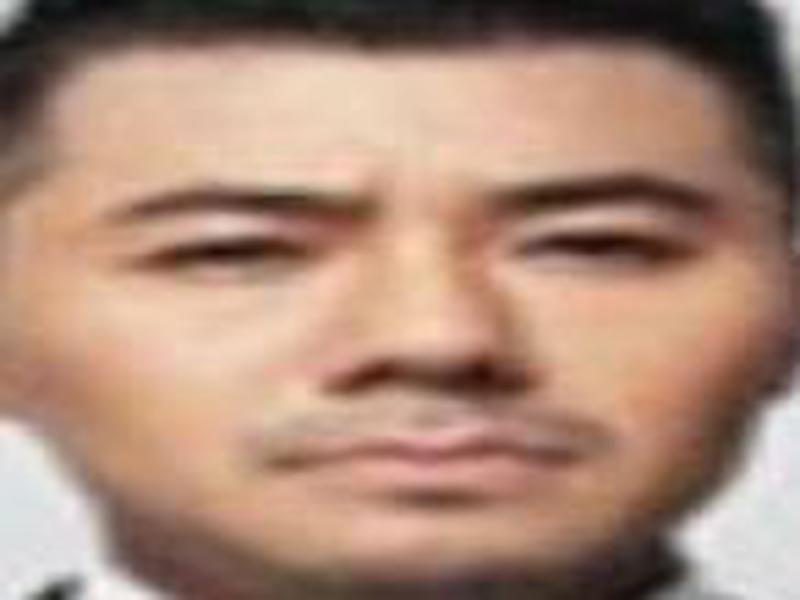without_mask: (14, 34, 774, 576)
